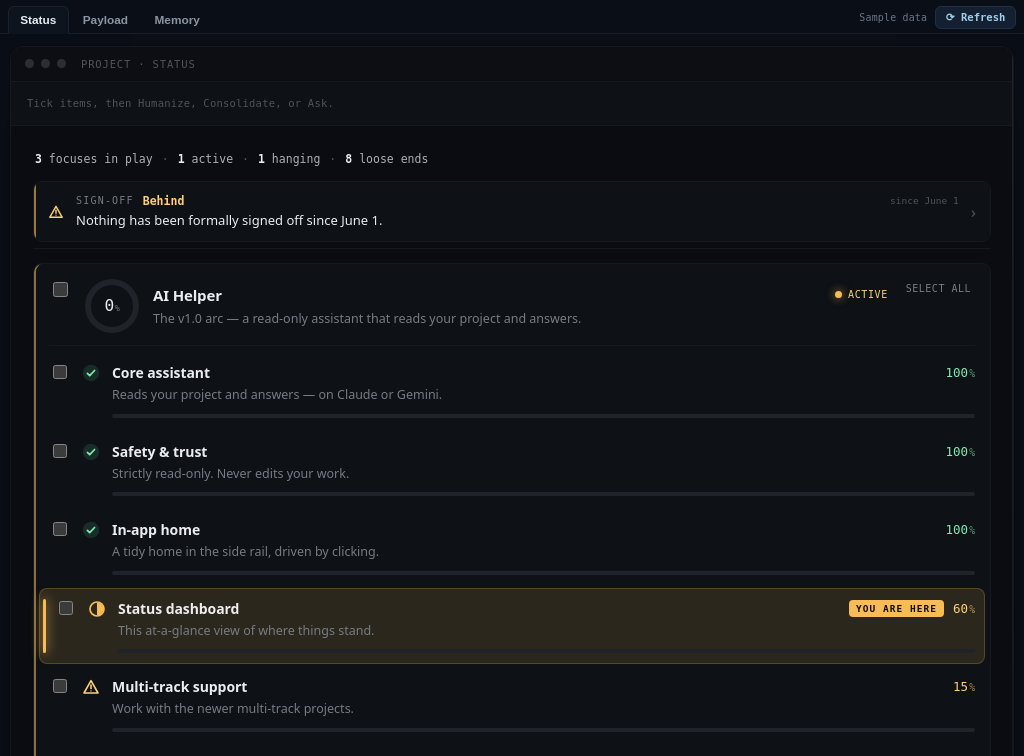
Test case: the parent toggle selects the focus itself without ticking any child box
What coordinates should you click on to do the following:
click the checkbox with test id "focus-parent"
I would click on:
 (60, 290)
Its box is left=53, top=282, right=68, bottom=297.
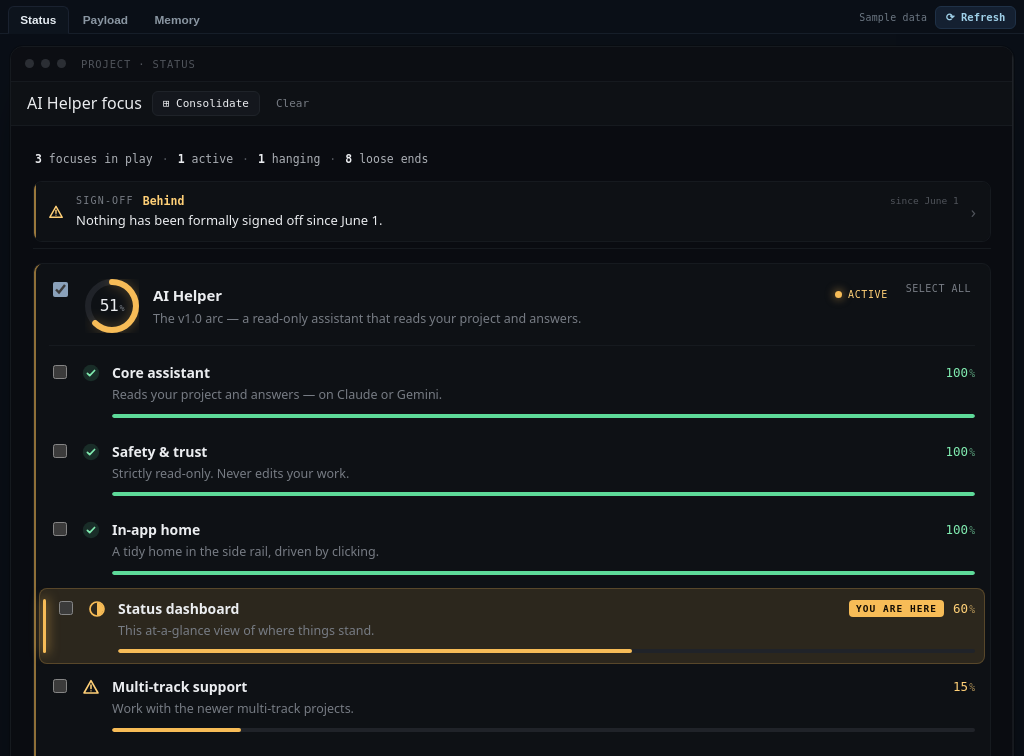
Now the checkbox with test id "focus-parent" is checked, box left=53, top=282, right=68, bottom=297
Now the button with test id "op-consolidate" is shown, box left=152, top=91, right=260, bottom=116
